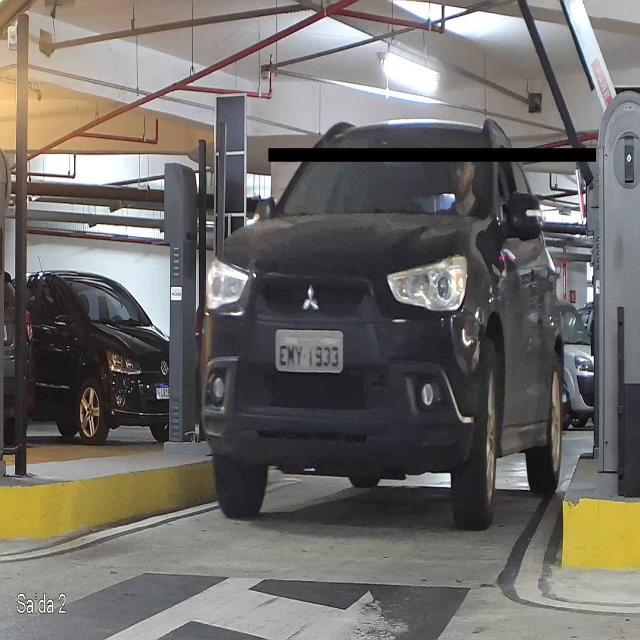old_plate: (273, 327, 346, 376)
